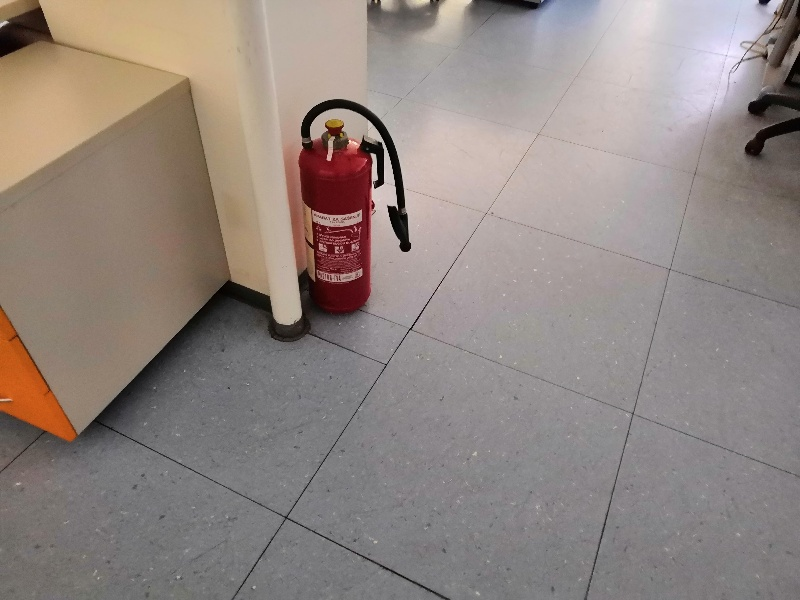vataparat: (299, 99, 413, 314)
